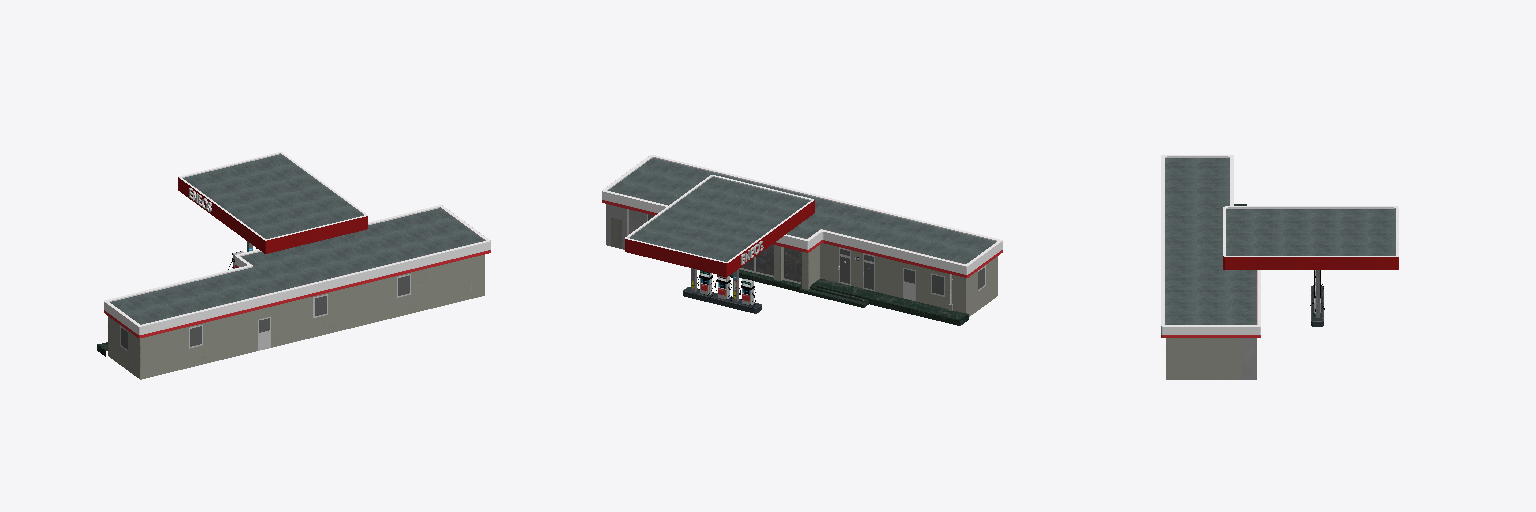
3 renders of one model, left to right at view 1: azimuth 30°, elevation 25°; view 2: azimuth 150°, elevation 25°; view 3: azimuth 270°, elevation 25°, orthographic.
Visible parts, largest first — view 1: Cube.005_Cube.009, concrt_low_Cube.041; view 2: Cube.005_Cube.009, concrt_low_Cube.041; view 3: Cube.005_Cube.009, concrt_low_Cube.041.
Part boxes in pixels (x1,y1,x2,y2): Cube.005_Cube.009: (97,205,490,379); concrt_low_Cube.041: (178,152,367,253); Cube.005_Cube.009: (602,155,1002,325); concrt_low_Cube.041: (625,175,814,313); Cube.005_Cube.009: (1161,155,1260,379); concrt_low_Cube.041: (1223,206,1398,326).
Bounding box in the file's own units: 8.94 × 1.95 × 5.21.
1 materials, 1 textured.